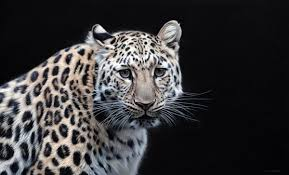amur_leopard: (12, 11, 214, 170)
